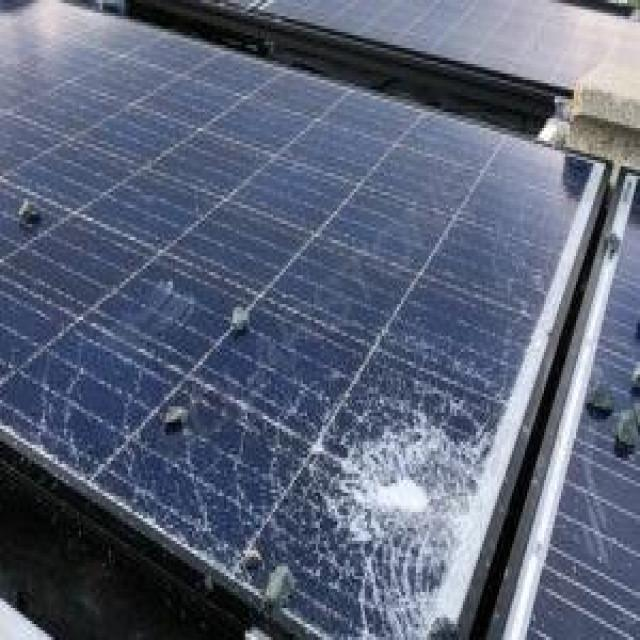cracked: (4, 3, 580, 634)
